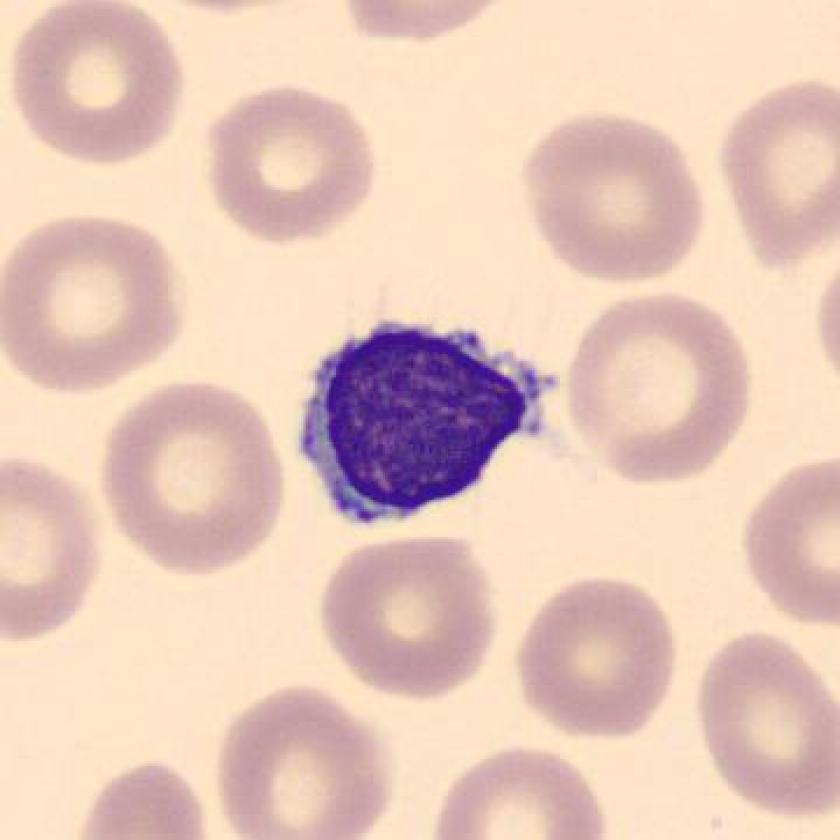lymphocyte: (281, 295, 573, 552)
